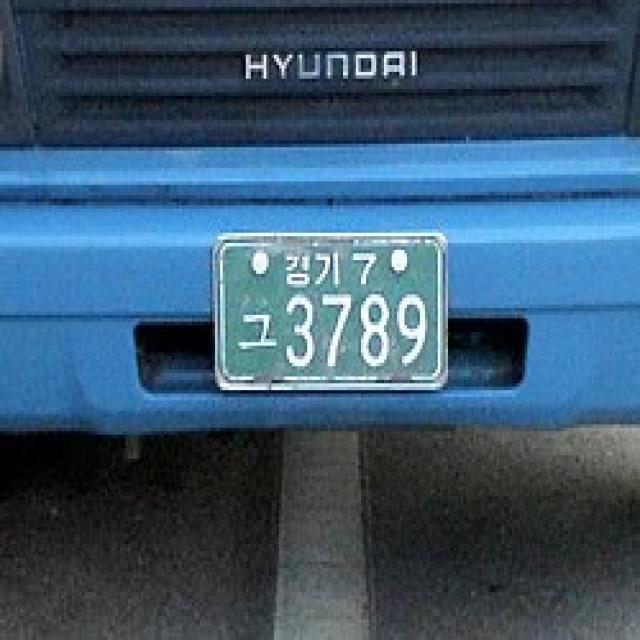car: (191, 217, 478, 418)
